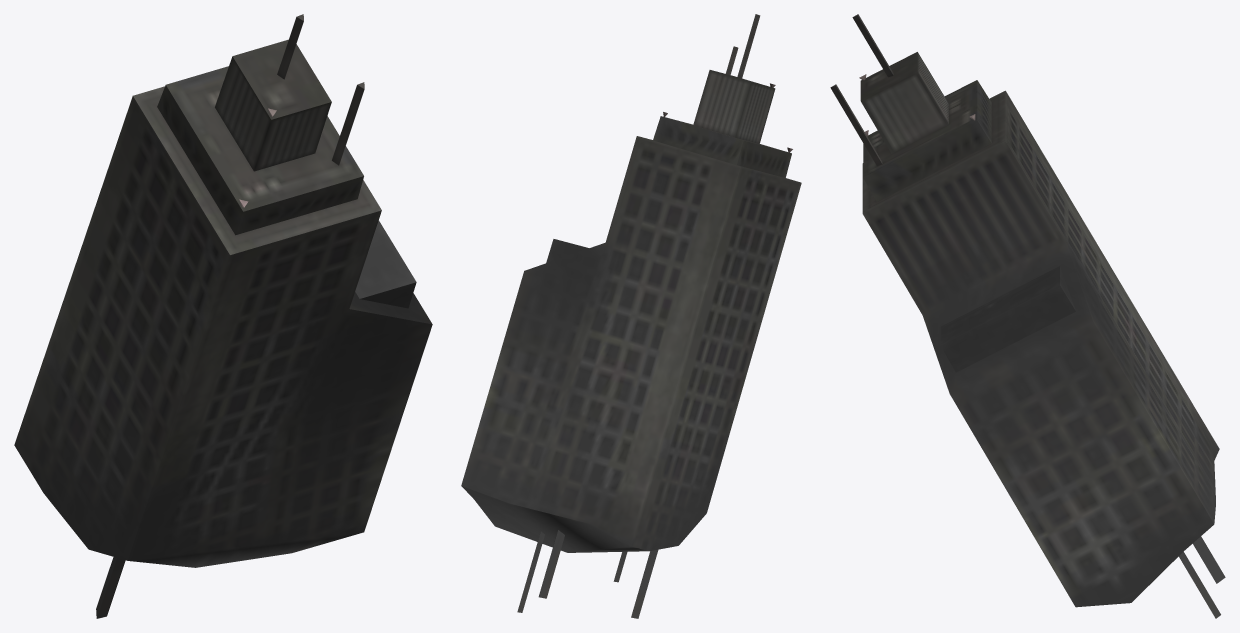
The model's file is skyBuildingAAB_pos_grp (20).fbx.
3 views of the same model, side by side, from view 1: azimuth 30°, elevation 25°; view 2: azimuth 150°, elevation 25°; view 3: azimuth 270°, elevation 25° (orthographic). The views are drawn at different scales.
Visible parts, largest first — view 1: skyBuildingAAB_geo; view 2: skyBuildingAAB_geo; view 3: skyBuildingAAB_geo.
Boxes of the visible parts, <box> form: skyBuildingAAB_geo: <box>14,14,432,618</box>; skyBuildingAAB_geo: <box>461,14,801,618</box>; skyBuildingAAB_geo: <box>830,14,1225,618</box>.
Size of the model in its own units: 4.79 by 12.21 by 7.7.
